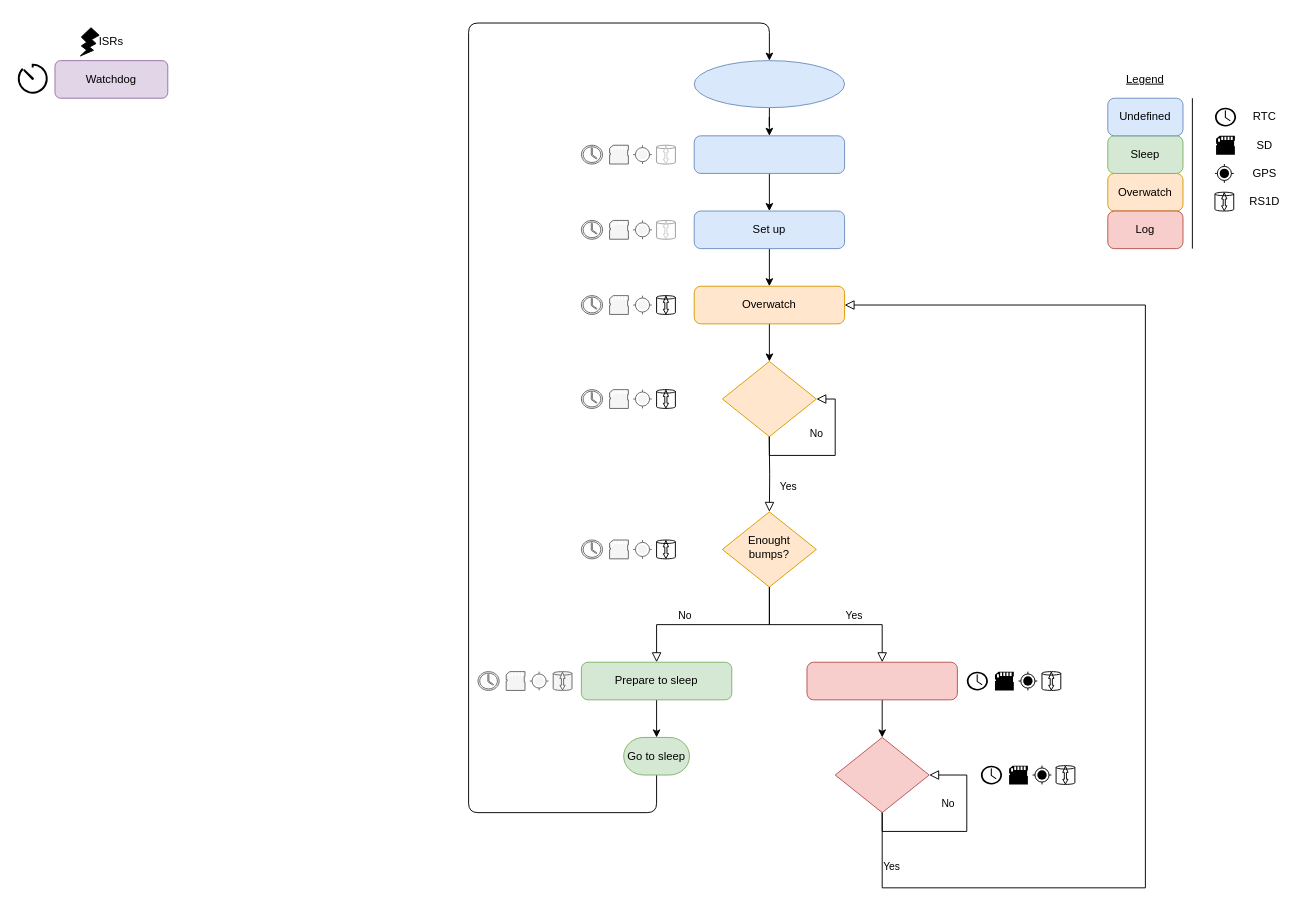
Image size: 1299x914. Some labels were removed from this diagram. The shapes that lost their labels are listed below. From the top down, each one's box as (x1, y1, x2, y2) in pixels, then its label:
(693, 60, 845, 108): Start
(693, 135, 845, 173): Global variables
(721, 360, 816, 437): Overwatch finished?
(806, 661, 957, 700): Prepare to log
(834, 736, 929, 813): Log finished?
